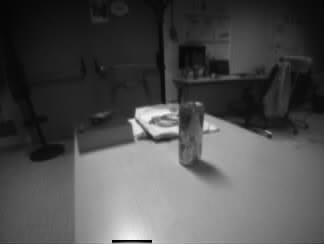Tin can: (180, 100, 202, 166)
